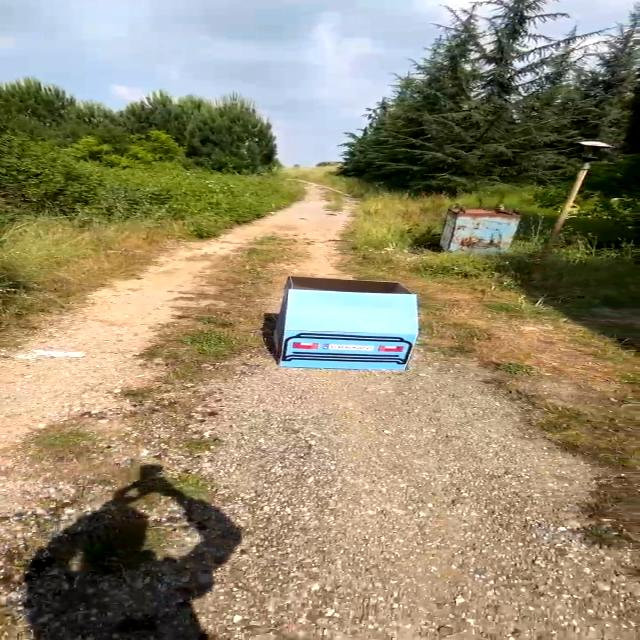blue_car: (246, 250, 436, 403)
